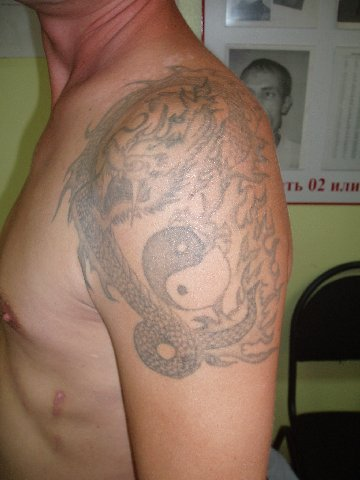tatu7_zmeya: (63, 75, 283, 371)
